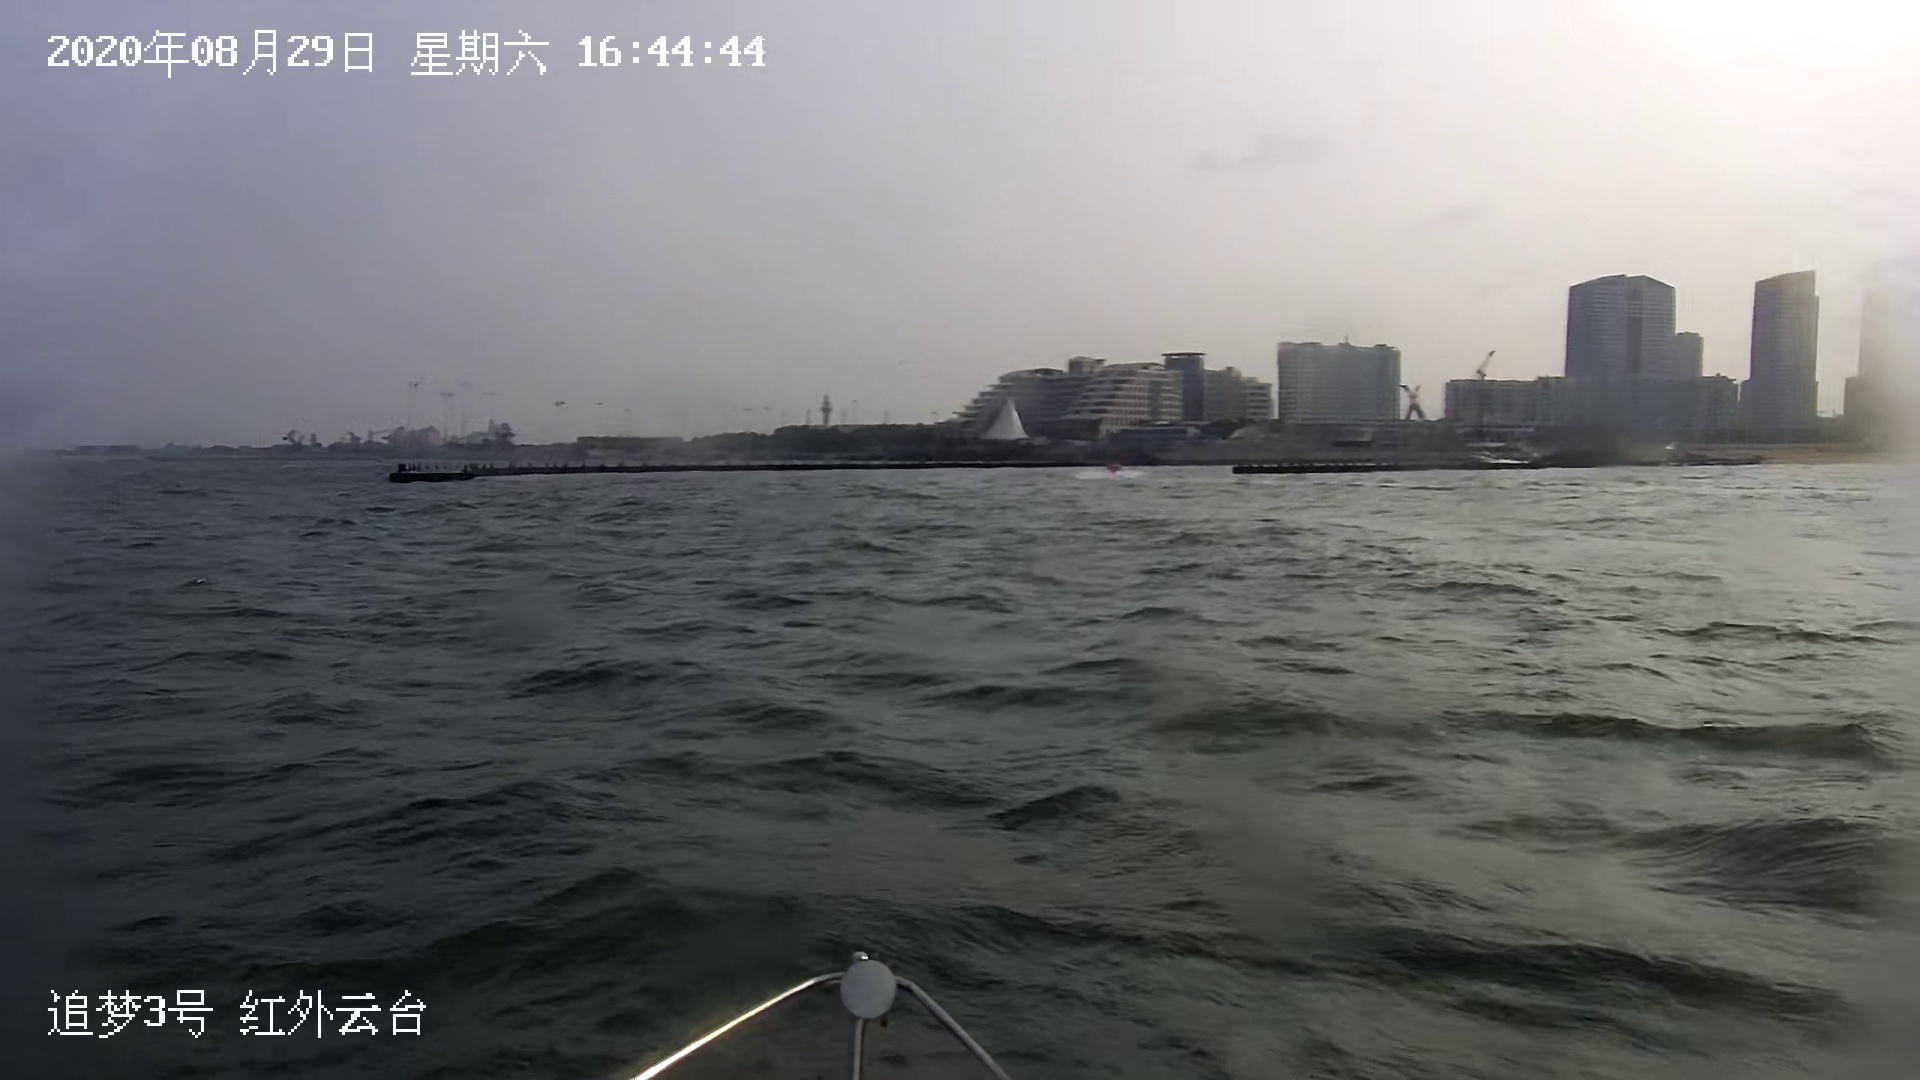coast: (51, 245, 1920, 485)
